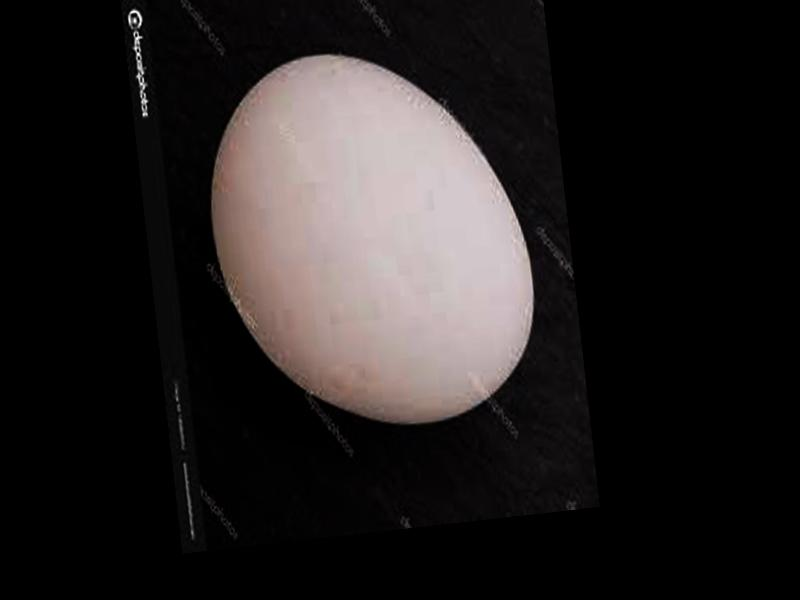Eggs: (193, 34, 544, 444)
